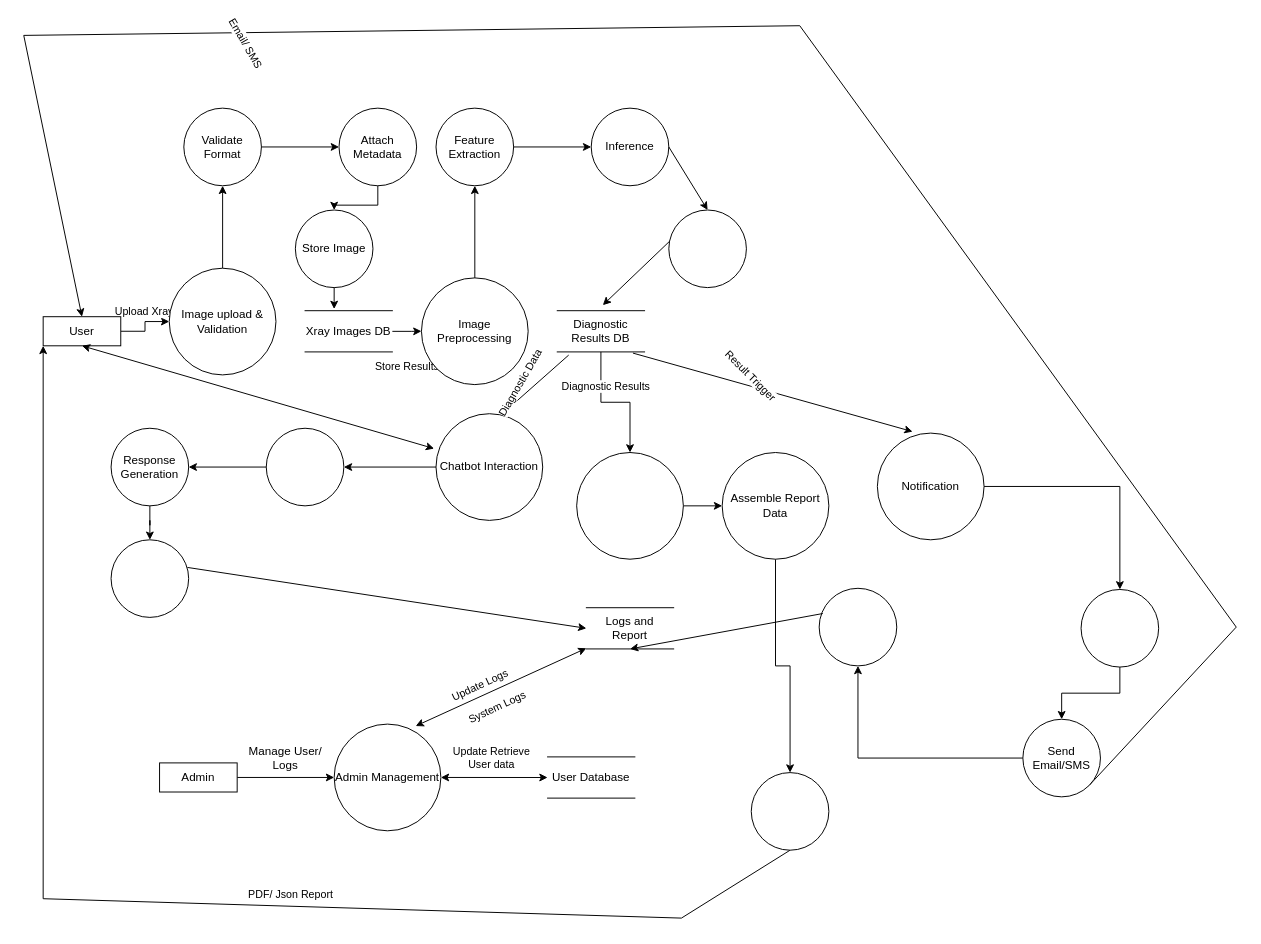
The diagram is 1261 pixels wide and 944 high, and some of its shapes have lost their labels. Here are the shapes that lost their labels. From the top down, the centre of each, then its label:
pixel 707 248: Confidence Scoring
pixel 304 466: Intent Parsing ( NLP )
pixel 629 505: Report Generation
pixel 149 578: Log Interaction
pixel 857 626: Retry/ Feature Handling
pixel 1119 627: Prepare Message
pixel 789 811: Format PDf/Json
